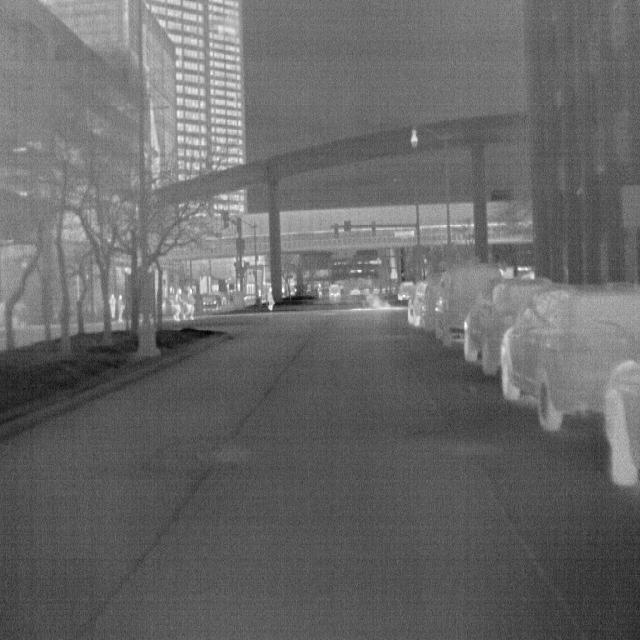Pedestrian: (182, 287, 197, 321), (172, 288, 184, 322), (108, 292, 117, 321), (266, 287, 276, 313), (117, 294, 126, 322)
Vehicle: (496, 278, 640, 436), (462, 276, 559, 378), (202, 294, 223, 312)
